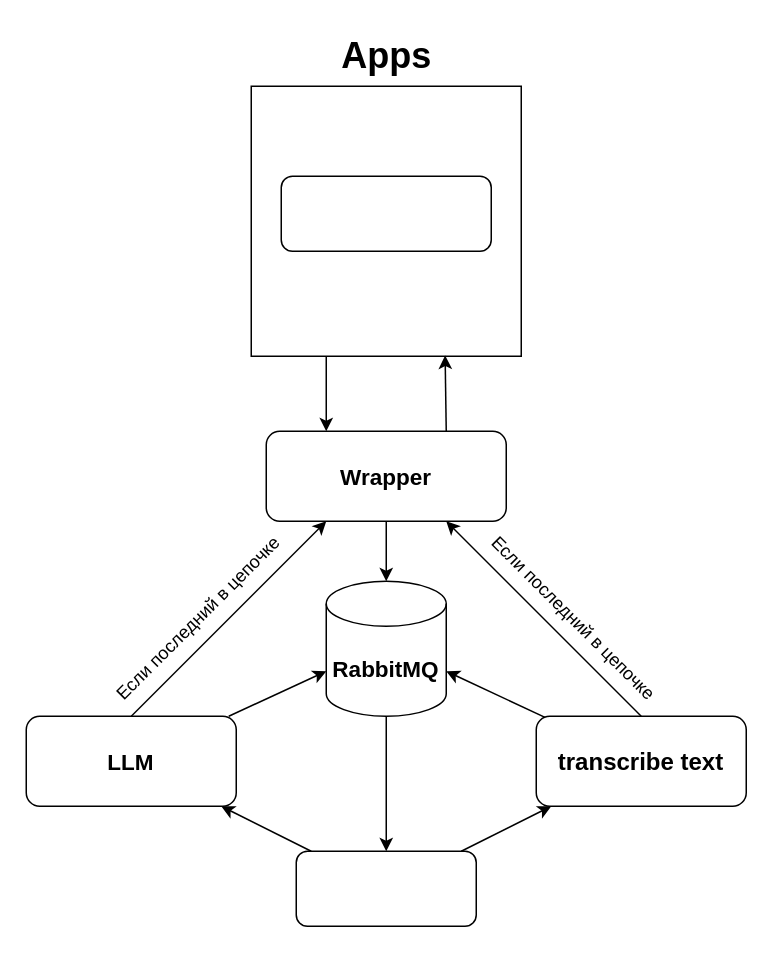
This 773x953 diagram has some shape labels left out. Each missing label, with the centre of its shape:
Orkerstor (worker): point 385,888
Telegram bot: point 385,213
